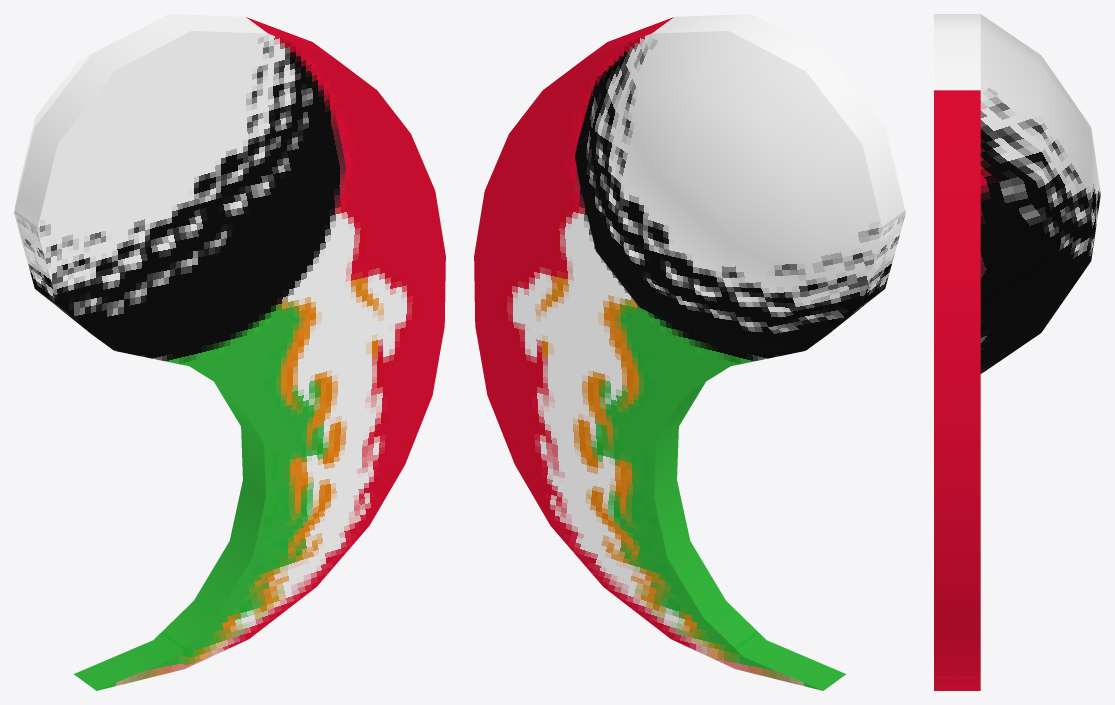
Rendered from ps2_save-icons_streetgolfer.glb.
3 renders of one model, left to right at view 1: azimuth 30°, elevation 25°; view 2: azimuth 150°, elevation 25°; view 3: azimuth 270°, elevation 25°, orthographic.
Parts seen in each view (by area): view 1: view.ico; view 2: view.ico; view 3: view.ico.
Part boxes in pixels (bbox=[...]): view.ico: bbox=[14, 14, 445, 690]; view.ico: bbox=[474, 14, 905, 690]; view.ico: bbox=[934, 14, 1100, 690].
Size of the model in its own units: 3.31 by 4.93 by 1.15.
Materials: 1 (1 with a texture image).
